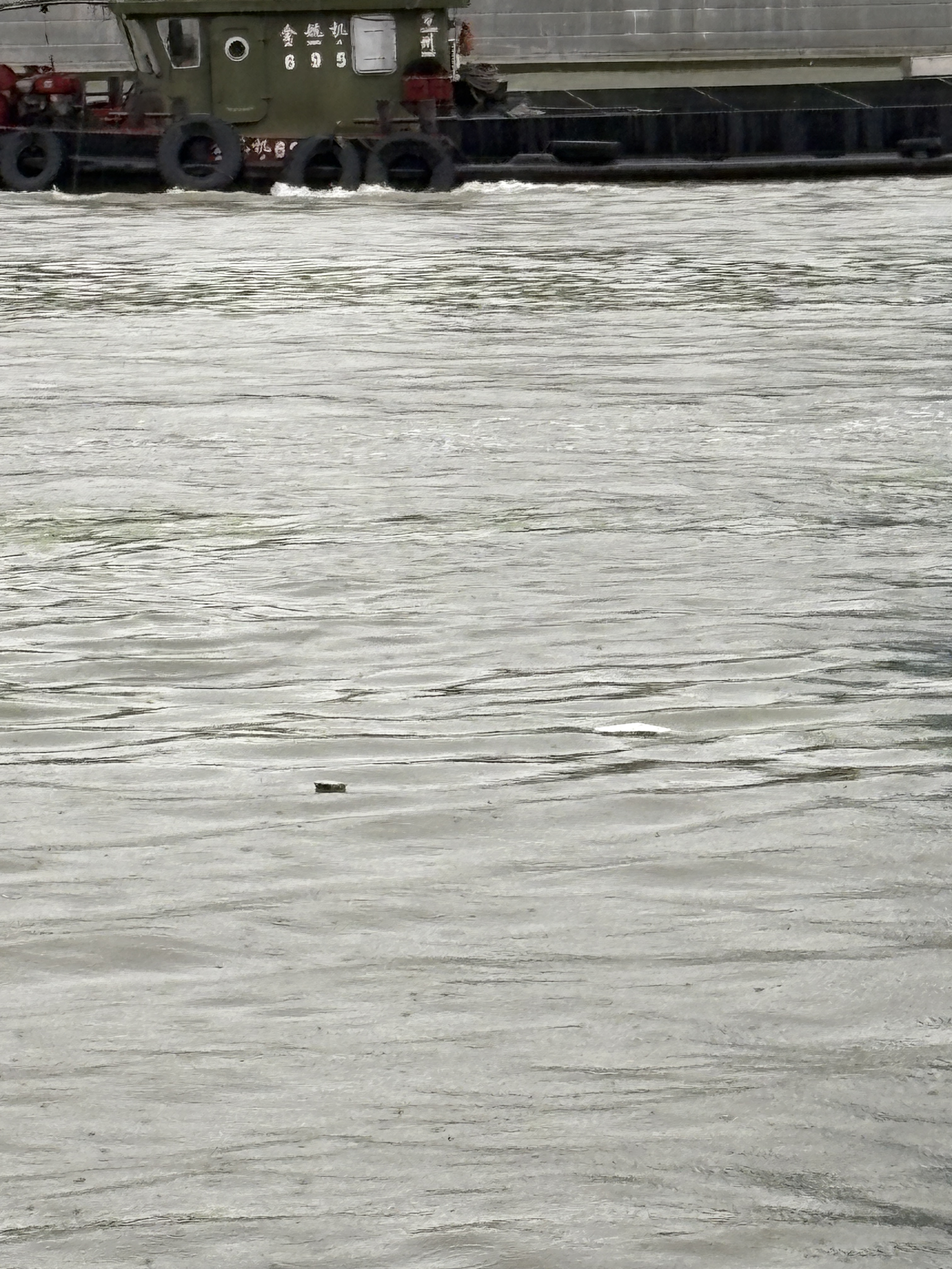Plastic wastes: (538, 378, 546, 477), (585, 802, 597, 852)
